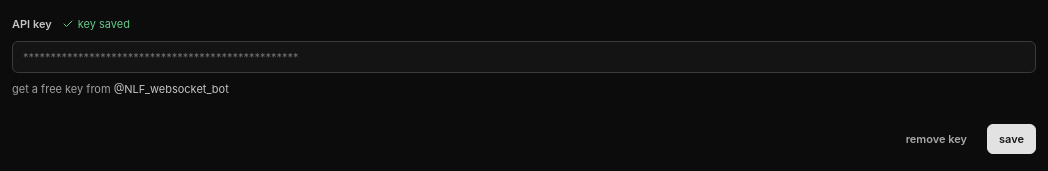
Test: shows saved key, masks replacement and removes status after clearing
The width and height of the screenshot is (1048, 171).
Check: the text "key saved" is shown, box x1=62 y1=16 x2=130 y2=32
Type "secret-value" into the password field labelled "API key".
click(524, 56); type("secret-value")  # box x1=12 y1=40 x2=1036 y2=72
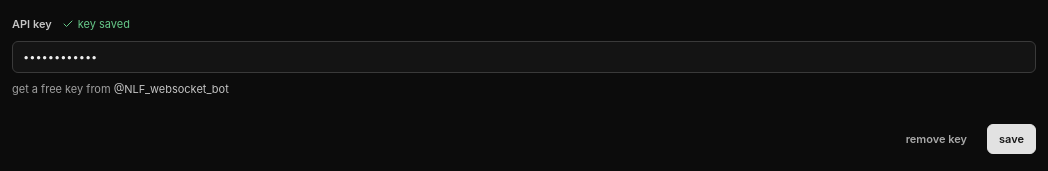
Click the button "save".
click(1012, 139)  # box x1=987 y1=124 x2=1036 y2=154
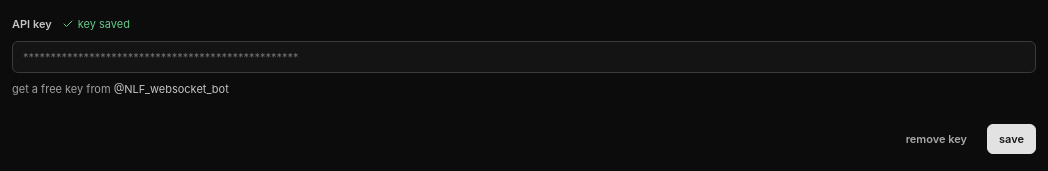
Check: the password field labelled "API key" is empty, box x1=12 y1=40 x2=1036 y2=72
Click the button "remove key".
click(936, 139)  # box x1=894 y1=124 x2=979 y2=154
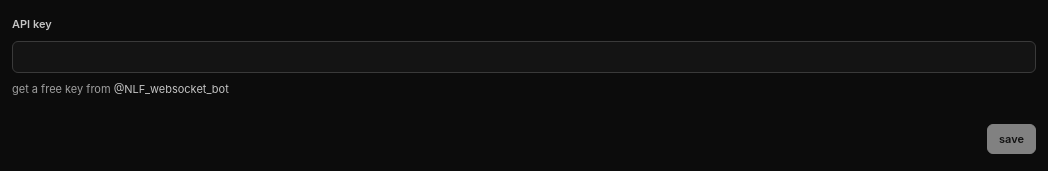
Check: the text "key saved" is gone
